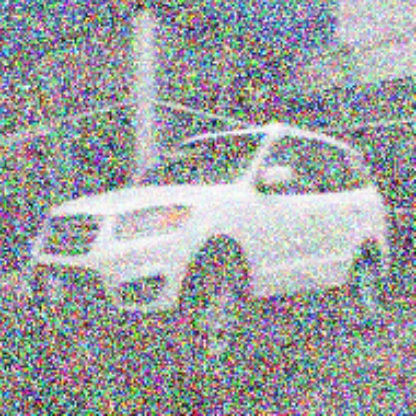Vehicle: (32, 126, 395, 351)
